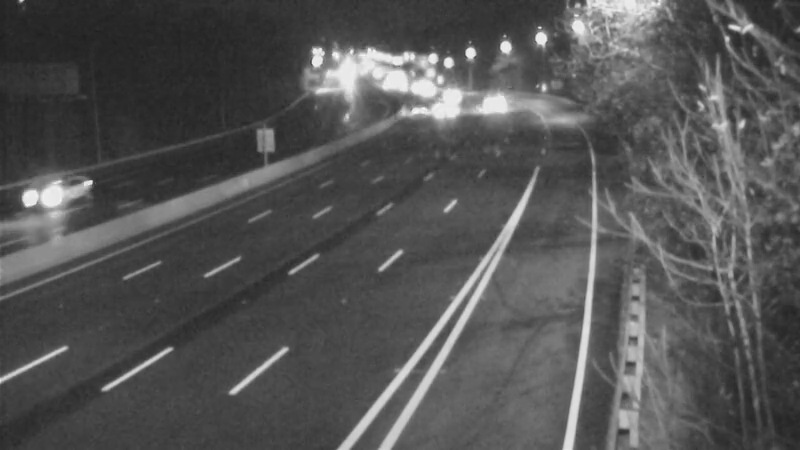vehicle: (19, 152, 99, 232), (401, 65, 451, 115), (426, 67, 476, 117), (466, 78, 516, 128), (391, 81, 441, 131), (419, 86, 469, 136)
